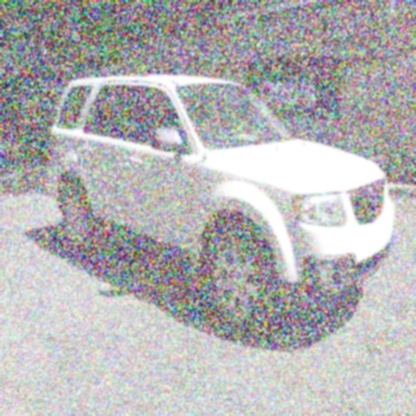Vehicle: (47, 66, 394, 336)
